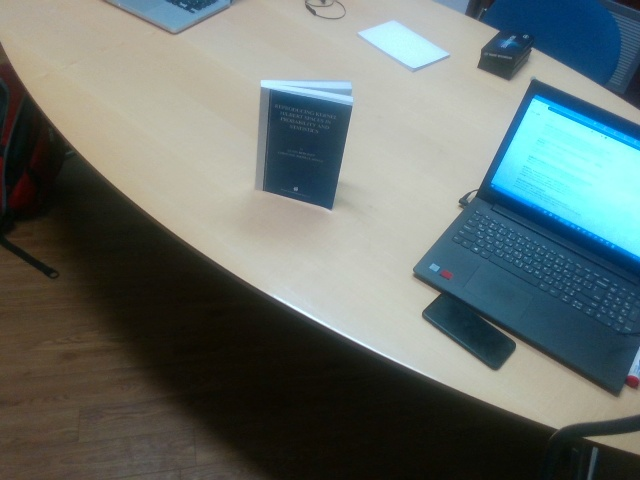book: (252, 81, 357, 215)
